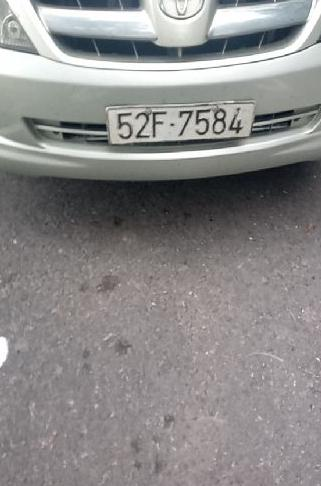Plate-iWeP: (107, 103, 256, 145)
